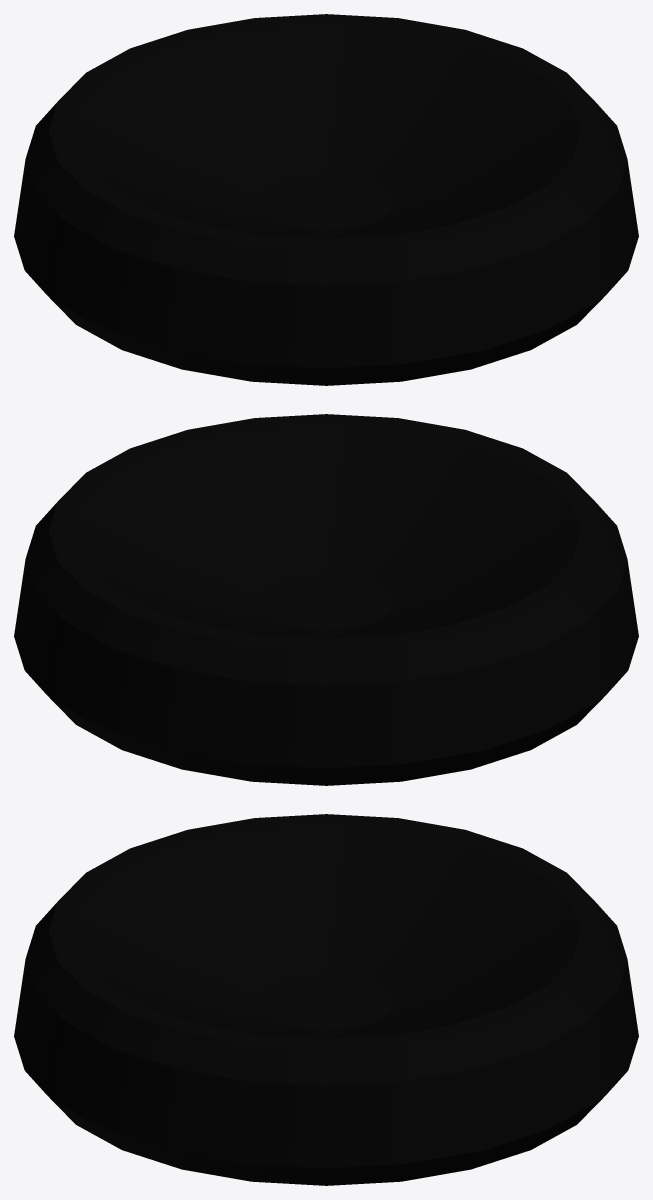
File: Tantares_Port_2.obj
The picture shows the model from 3 angles, top to bottom: view 1: azimuth 30°, elevation 25°; view 2: azimuth 150°, elevation 25°; view 3: azimuth 270°, elevation 25°; orthographic projection.
Parts seen in each view (by area): view 1: Tantares_Port_2; view 2: Tantares_Port_2; view 3: Tantares_Port_2.
Part boxes in pixels (bbox=[...]): Tantares_Port_2: bbox=[14, 14, 638, 385]; Tantares_Port_2: bbox=[14, 414, 638, 785]; Tantares_Port_2: bbox=[14, 814, 638, 1185].
Bounding box in the file's own units: 0.675 × 0.1575 × 0.675.
1 material, 1 textured.
